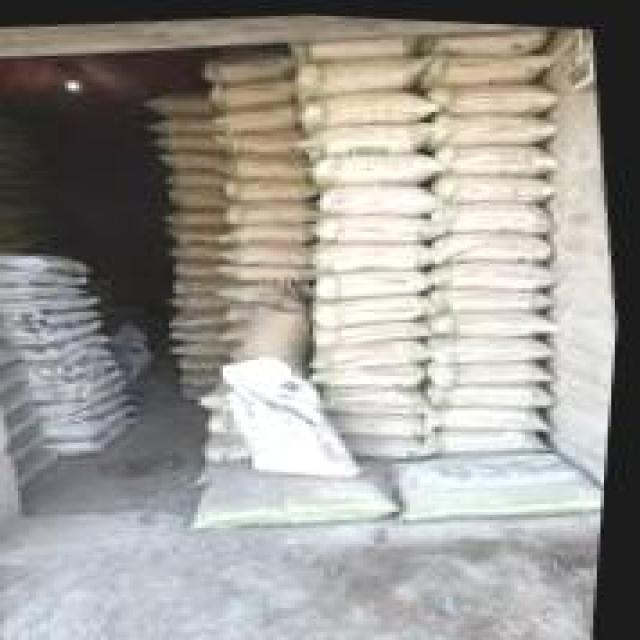gunny_bag: (406, 444, 611, 509), (309, 50, 420, 91), (323, 263, 430, 300), (322, 147, 432, 181), (445, 44, 552, 77), (442, 76, 555, 107), (443, 199, 546, 229), (444, 140, 546, 170), (442, 110, 549, 137), (63, 400, 137, 439), (326, 122, 425, 151), (326, 384, 428, 412), (333, 179, 428, 209), (333, 89, 426, 119), (332, 239, 421, 270), (331, 336, 426, 364), (450, 229, 547, 254), (333, 214, 429, 239), (447, 174, 551, 197), (21, 318, 103, 347), (452, 361, 552, 384), (451, 332, 549, 355), (447, 382, 548, 404), (446, 260, 547, 282), (236, 171, 319, 197), (452, 305, 550, 327), (451, 285, 549, 307), (223, 99, 292, 129), (217, 74, 290, 101), (232, 152, 312, 176), (237, 198, 312, 223), (441, 427, 539, 446), (446, 404, 546, 422), (236, 240, 310, 262), (2, 280, 86, 299), (0, 254, 93, 271), (235, 261, 304, 279), (156, 90, 207, 112), (5, 385, 39, 417), (159, 114, 215, 133), (12, 407, 43, 441), (176, 183, 221, 205), (164, 147, 215, 166), (0, 364, 32, 392), (176, 206, 218, 224), (0, 343, 23, 367)
